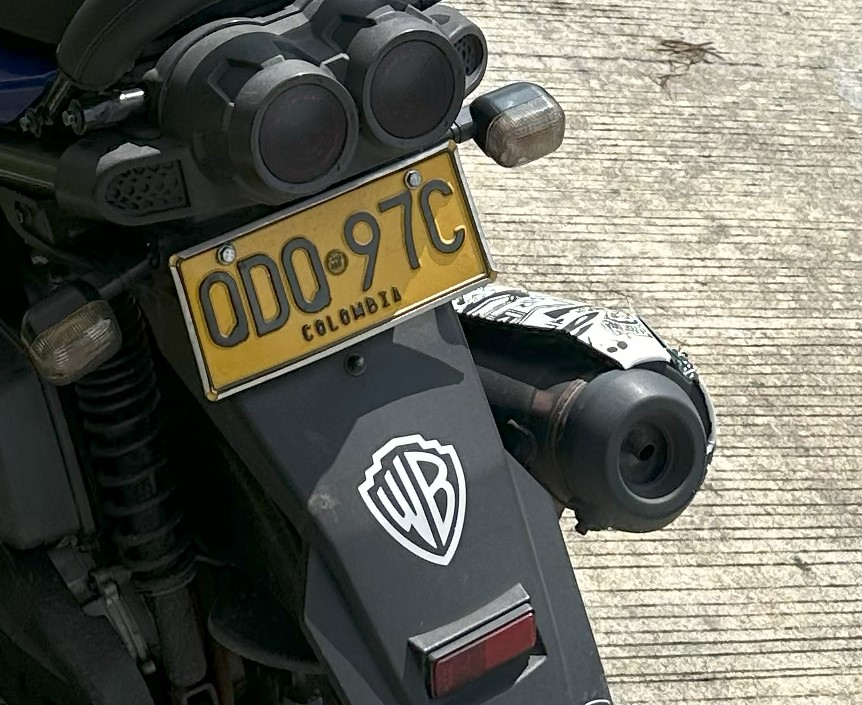number plate: (170, 143, 492, 400)
